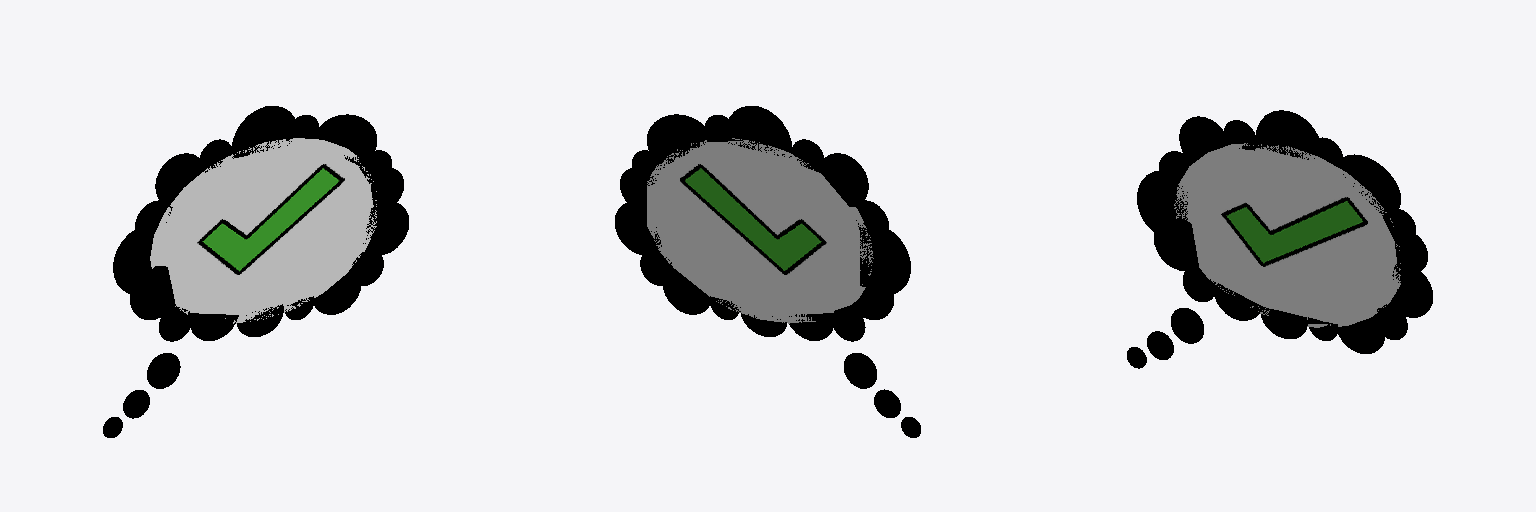
3 views of the same model, side by side, from view 1: azimuth 30°, elevation 25°; view 2: azimuth 150°, elevation 25°; view 3: azimuth 330°, elevation 25° (orthographic).
Visible parts, largest first — view 1: pDisc17 polySurface5, pDisc17 polySurface4, pDisc17 polySurface13, pDisc17 polySurface8, pDisc17 polySurface14, pDisc17 polySurface12, pDisc17 polySurface19, pDisc17 polySurface17, pDisc17 polySurface3, pDisc17 polySurface9, pDisc17 polySurface16, pDisc17 polySurface11 (+7 smaller); view 2: pDisc17 polySurface5, pDisc17 polySurface14, pDisc17 polySurface13, pDisc17 polySurface4, pDisc17 polySurface19, pDisc17 polySurface12, pDisc17 polySurface17, pDisc17 polySurface8, pDisc17 polySurface16, pDisc17 polySurface3, pDisc17 polySurface20, pDisc17 polySurface9 (+7 smaller); view 3: pDisc17 polySurface5, pDisc17 polySurface4, pDisc17 polySurface14, pDisc17 polySurface13, pDisc17 polySurface8, pDisc17 polySurface12, pDisc17 polySurface19, pDisc17 polySurface17, pDisc17 polySurface2, pDisc17 polySurface3, pDisc17 polySurface9, pDisc17 polySurface16 (+7 smaller).
Boxes of the visible parts, <box> form: pDisc17 polySurface5: <box>150,138,376,323</box>; pDisc17 polySurface4: <box>232,106,298,158</box>; pDisc17 polySurface13: <box>313,114,376,165</box>; pDisc17 polySurface8: <box>130,266,175,319</box>; pDisc17 polySurface14: <box>113,226,156,293</box>; pDisc17 polySurface12: <box>363,203,408,255</box>; pDisc17 polySurface19: <box>155,153,202,204</box>; pDisc17 polySurface17: <box>314,269,360,314</box>; pDisc17 polySurface3: <box>189,313,238,340</box>; pDisc17 polySurface9: <box>370,168,403,209</box>; pDisc17 polySurface16: <box>147,353,180,388</box>; pDisc17 polySurface11: <box>135,200,172,243</box>; pDisc17 polySurface5: <box>647,138,873,323</box>; pDisc17 polySurface14: <box>860,225,910,294</box>; pDisc17 polySurface13: <box>647,114,706,165</box>; pDisc17 polySurface4: <box>728,106,791,157</box>; pDisc17 polySurface19: <box>819,153,868,206</box>; pDisc17 polySurface12: <box>615,203,661,254</box>; pDisc17 polySurface17: <box>662,265,710,314</box>; pDisc17 polySurface8: <box>850,288,893,319</box>; pDisc17 polySurface16: <box>844,353,876,388</box>; pDisc17 polySurface3: <box>789,313,834,340</box>; pDisc17 polySurface20: <box>834,306,865,341</box>; pDisc17 polySurface9: <box>620,168,653,208</box>; pDisc17 polySurface5: <box>1174,143,1400,327</box>; pDisc17 polySurface4: <box>1255,110,1322,159</box>; pDisc17 polySurface14: <box>1137,171,1187,231</box>; pDisc17 polySurface13: <box>1337,154,1400,216</box>; pDisc17 polySurface8: <box>1154,217,1198,270</box>; pDisc17 polySurface12: <box>1389,264,1432,317</box>; pDisc17 polySurface19: <box>1179,116,1226,162</box>; pDisc17 polySurface17: <box>1338,315,1385,353</box>; pDisc17 polySurface2: <box>1261,306,1307,338</box>; pDisc17 polySurface3: <box>1213,282,1262,320</box>; pDisc17 polySurface9: <box>1395,231,1427,272</box>; pDisc17 polySurface16: <box>1171,308,1203,343</box>.
Bounding box in the file's own units: 1.81 × 1.66 × 0.0072.
Materials: 2 (1 with a texture image).